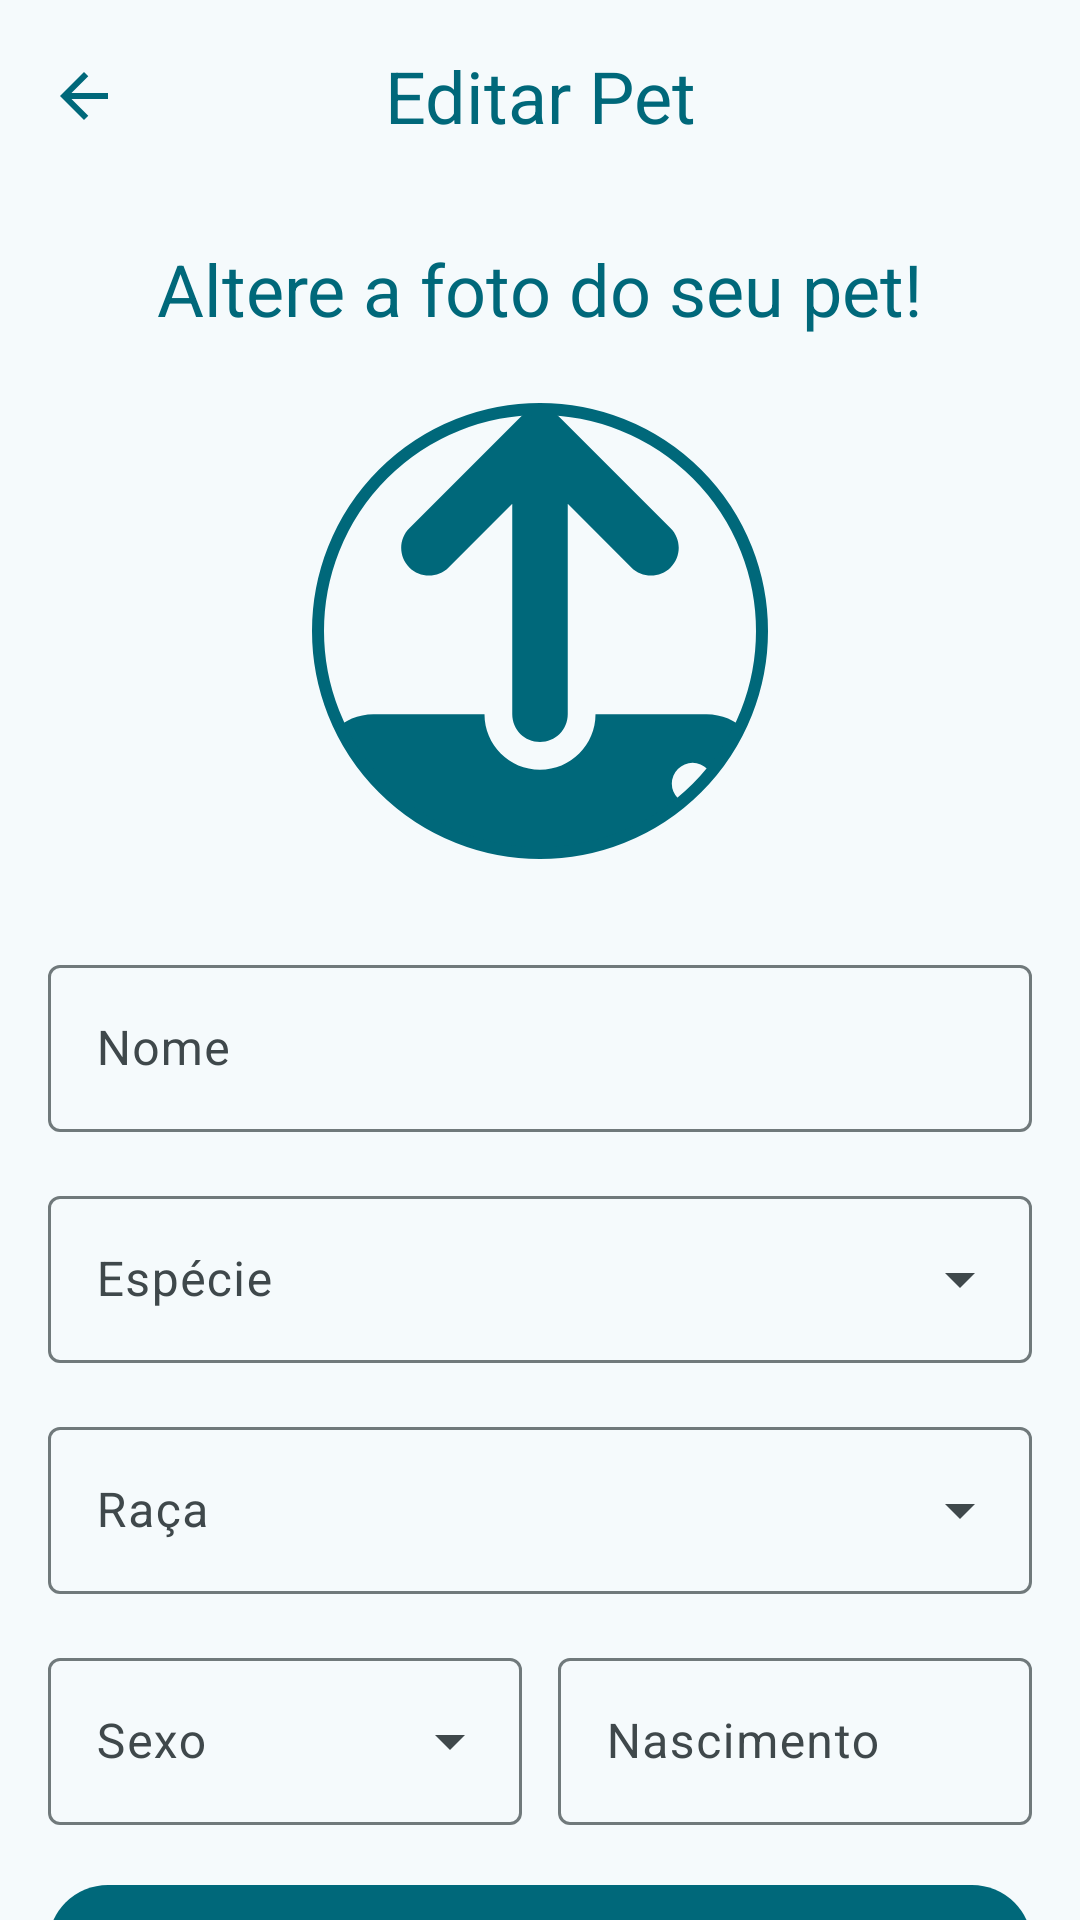

Screen size 1080*1920. Icon name, then its box in pixels as {"x1": x1, "y1": y1, "x2": x2, "y2": y2}:
arrow back: {"x1": 60, "y1": 72, "x2": 108, "y2": 120}
